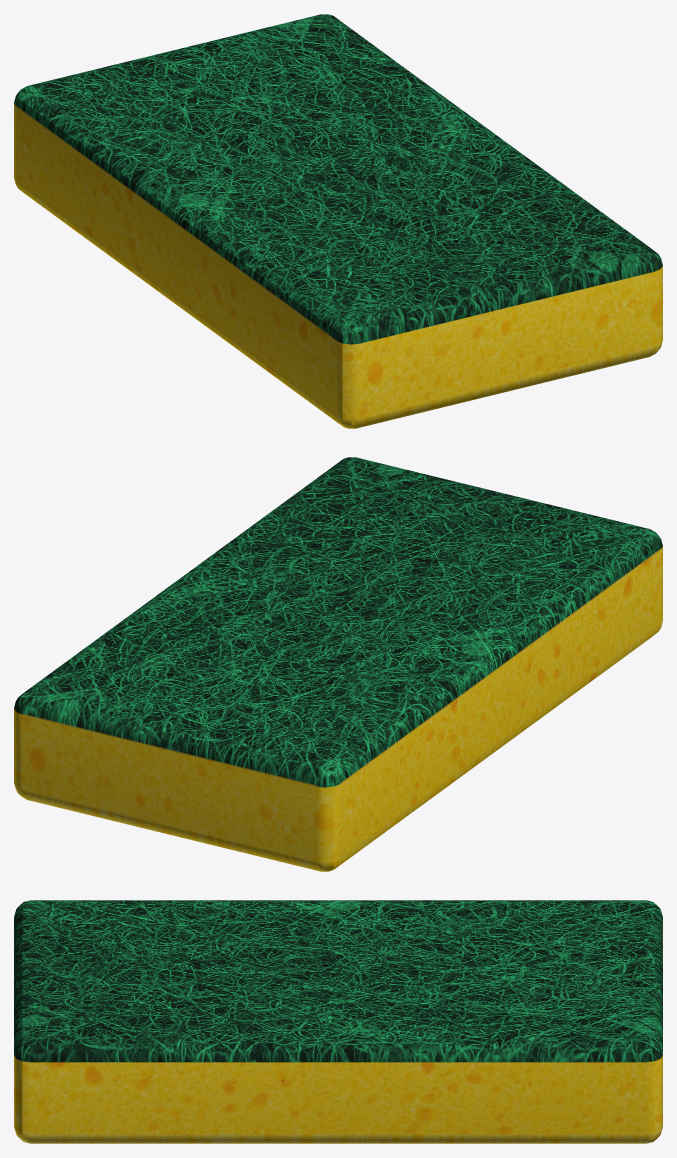
The model's file is JG_Sponge02.fbx.
3 views of the same model, one above another, from view 1: azimuth 30°, elevation 25°; view 2: azimuth 150°, elevation 25°; view 3: azimuth 270°, elevation 25° (orthographic). The views are drawn at different scales.
Visible parts, largest first — view 1: Sponge_Straight; view 2: Sponge_Straight; view 3: Sponge_Straight.
Boxes of the visible parts, x1,y1,x2,y2 form: Sponge_Straight: [14, 14, 662, 428]; Sponge_Straight: [14, 457, 662, 871]; Sponge_Straight: [14, 900, 662, 1143].
Size of the model in its own units: 108 by 33.9 by 195.
Materials: 1 (1 with a texture image).
